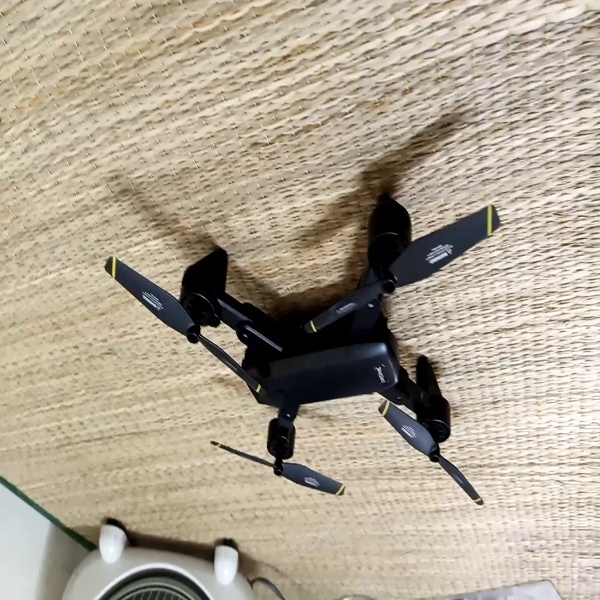drone: (103, 194, 508, 513)
